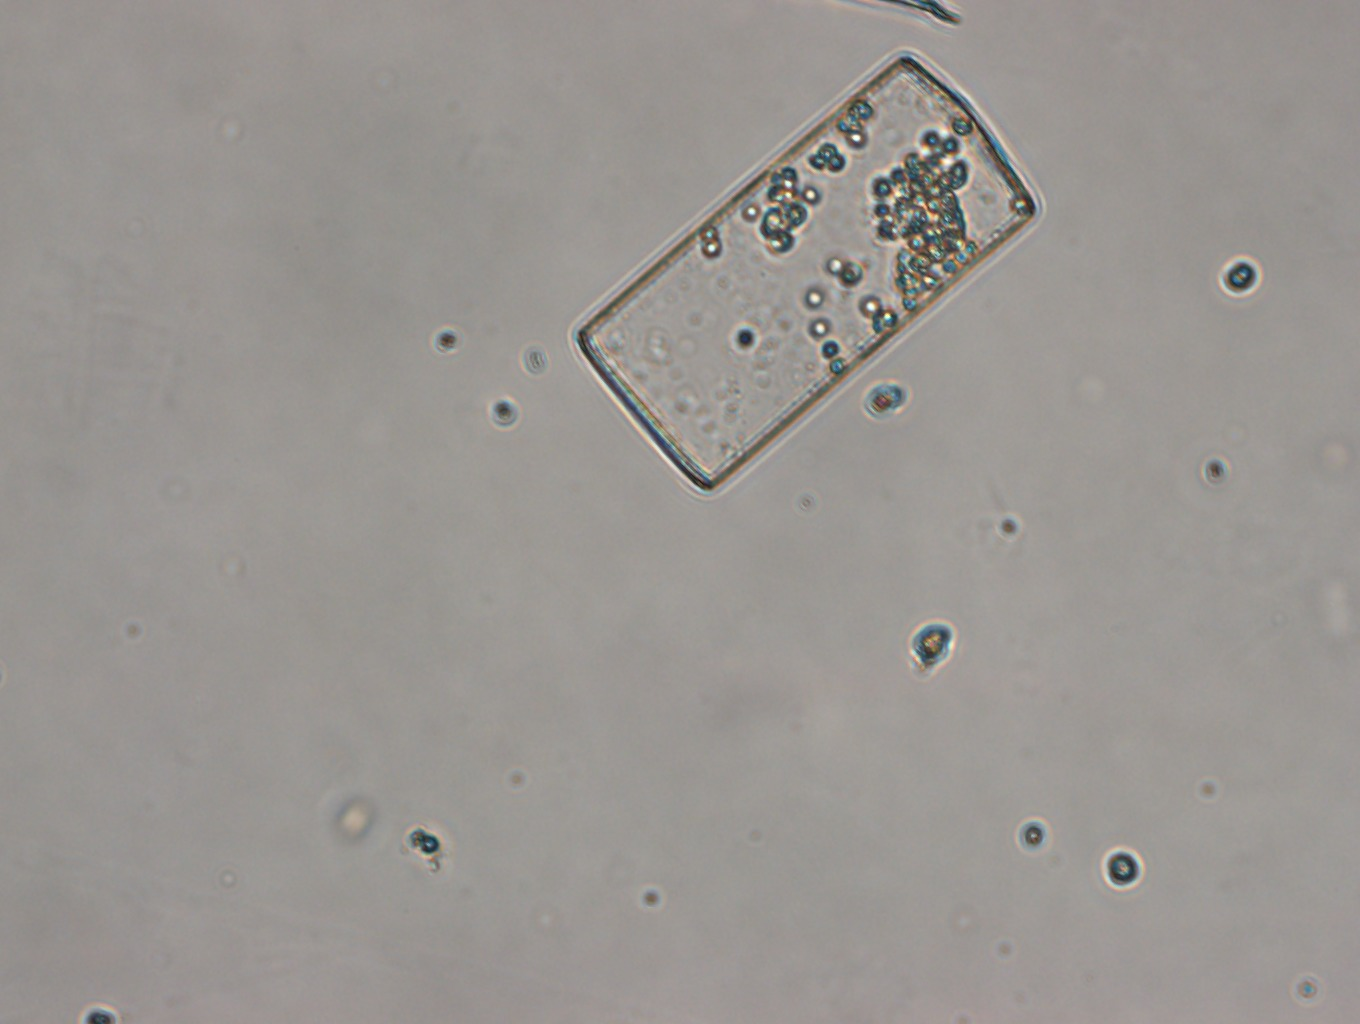guinardia flaccida: (570, 47, 1044, 495)
